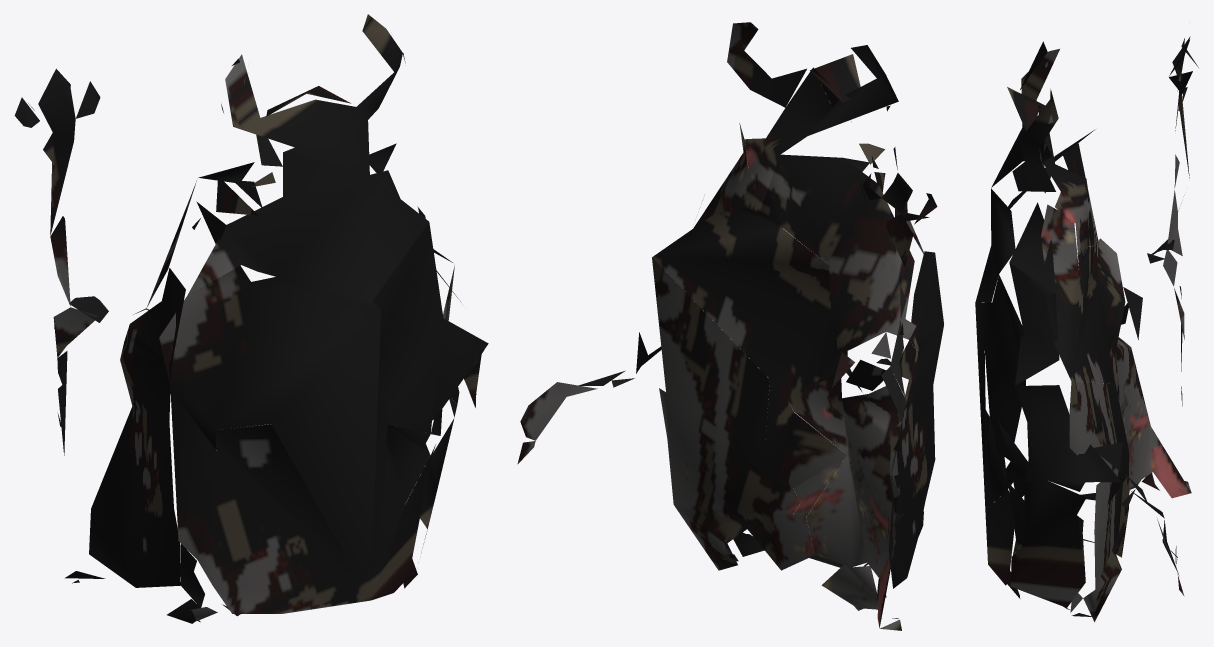
3 views of the same model, side by side, from view 1: azimuth 30°, elevation 25°; view 2: azimuth 150°, elevation 25°; view 3: azimuth 270°, elevation 25° (orthographic). The views are drawn at different scales.
Parts seen in each view (by area): view 1: body.002; view 2: body.002; view 3: body.002.
Boxes of the visible parts, x1=… form: body.002: x1=14, y1=14, x2=488, y2=623; body.002: x1=517, y1=22, x2=943, y2=630; body.002: x1=975, y1=36, x2=1198, y2=621.
Bounding box in the file's own units: 1.6 × 1.99 × 0.7595.
1 material, 1 textured.
